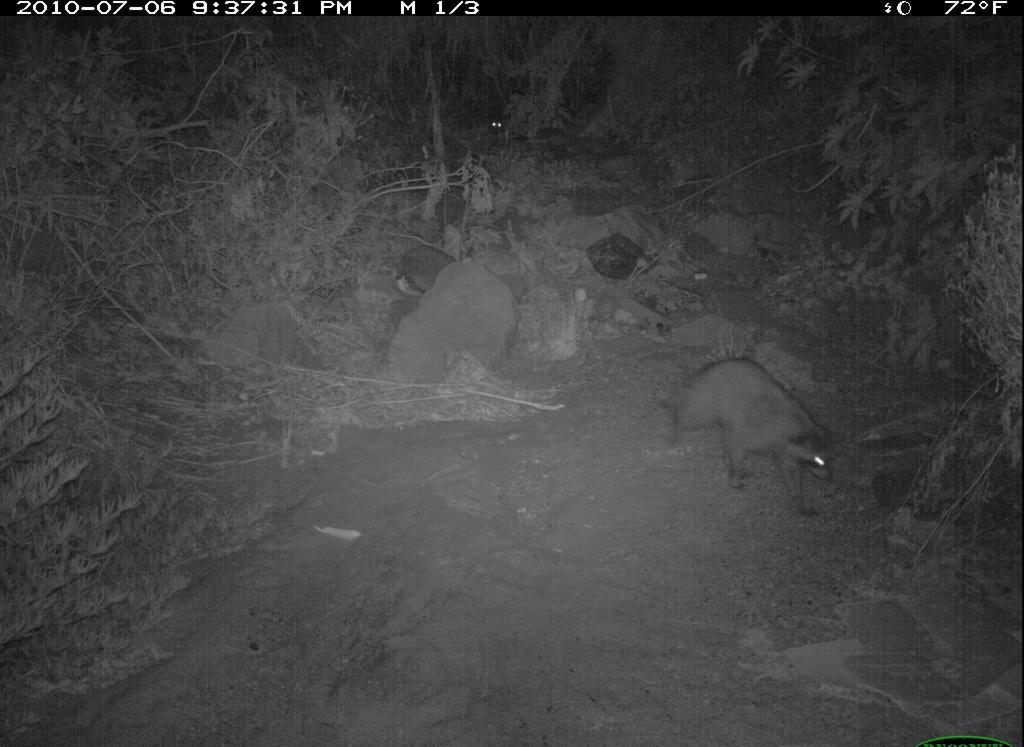raccoon: (652, 347, 845, 530)
